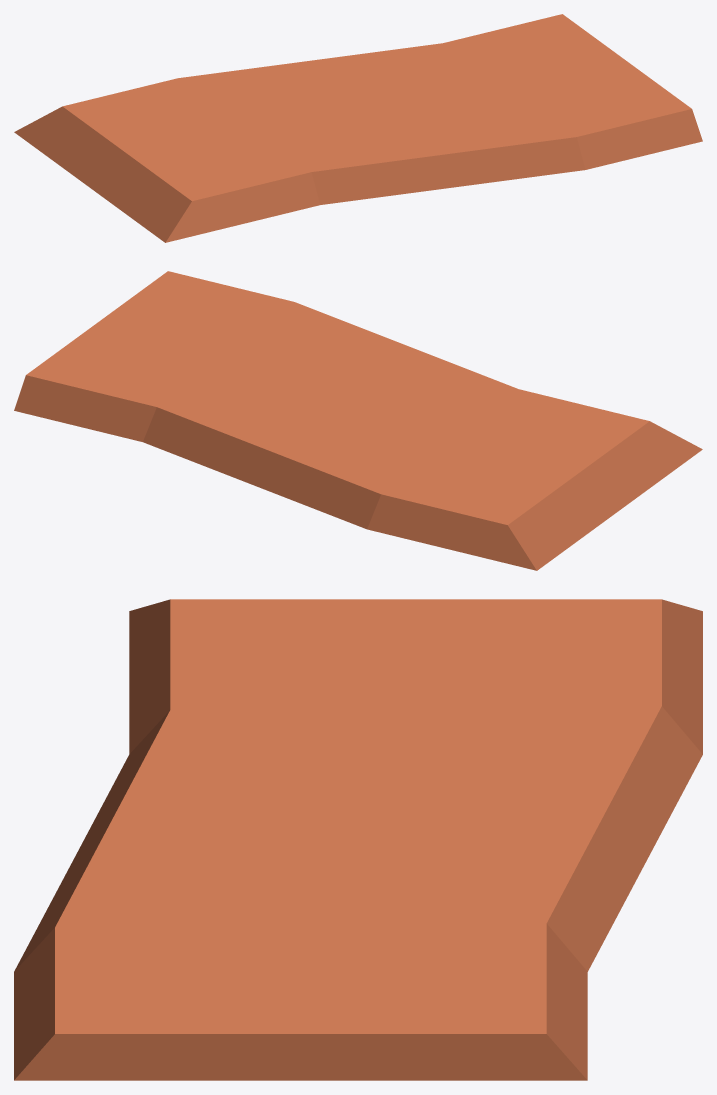
File: path_end.dae
The picture shows the model from 3 angles, top to bottom: view 1: azimuth 30°, elevation 25°; view 2: azimuth 150°, elevation 25°; view 3: azimuth 270°, elevation 25°; orthographic projection. The views are drawn at different scales.
Visible parts, largest first — view 1: path_end; view 2: path_end; view 3: path_end.
Part boxes in pixels (x1,y1,x2,y2): path_end: (14,14,702,242); path_end: (14,271,702,570); path_end: (14,599,702,1080).
Size of the model in its own units: 0.54 by 0.025 by 0.335.
